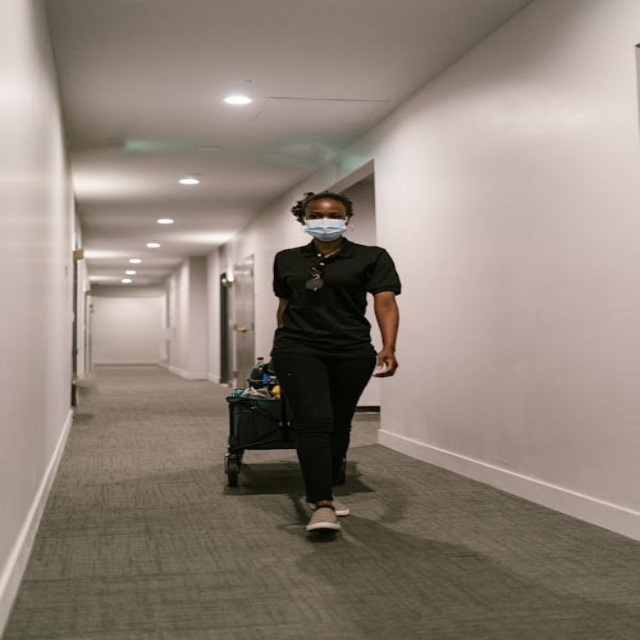Mascara: (302, 218, 349, 241)
Sin_gafas: (305, 213, 349, 220)
Sin_guantes: (367, 344, 406, 381)
